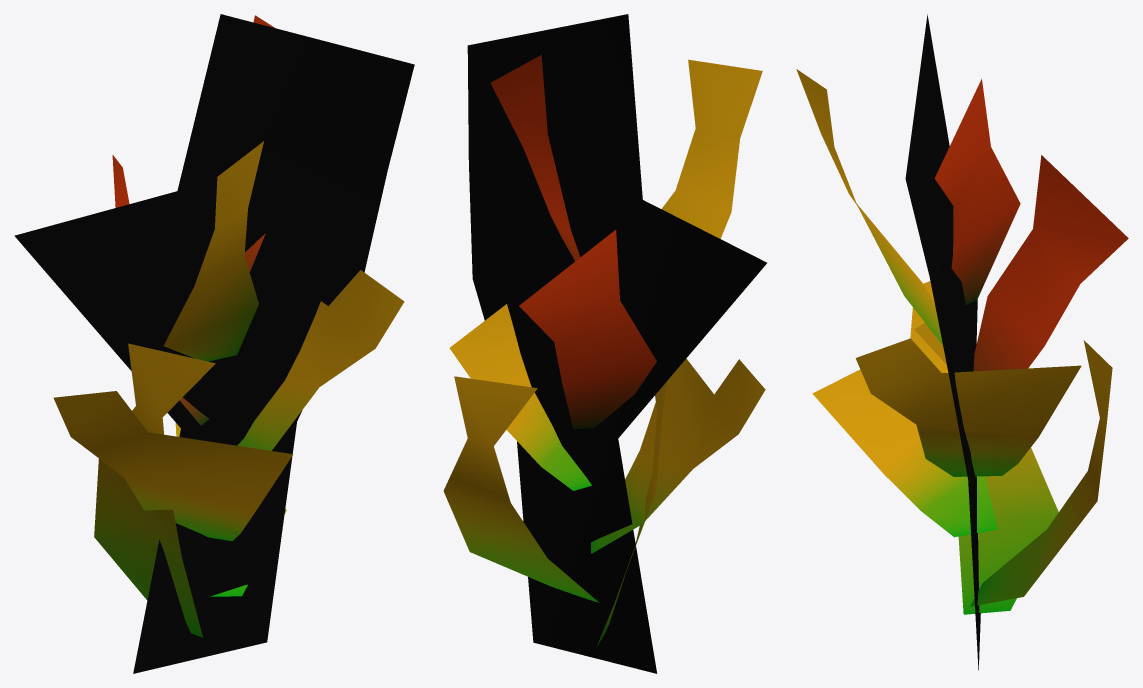
The model's file is Var4Hi5.fbx.
3 renders of one model, left to right at view 1: azimuth 30°, elevation 25°; view 2: azimuth 150°, elevation 25°; view 3: azimuth 270°, elevation 25°, orthographic. The views are drawn at different scales.
Parts seen in each view (by area): view 1: bend1; view 2: bend1; view 3: bend1.
Boxes of the visible parts, left/top/right/bottom form: bend1: left=14, top=14, right=414, bottom=673; bend1: left=443, top=14, right=766, bottom=673; bend1: left=796, top=14, right=1128, bottom=670.
Bounding box in the file's own units: 1.31 × 2.32 × 1.12.
